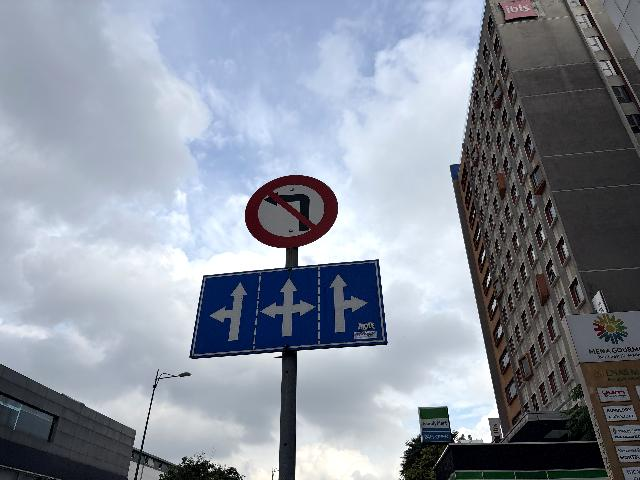cam-re-trai: (244, 174, 339, 249)
